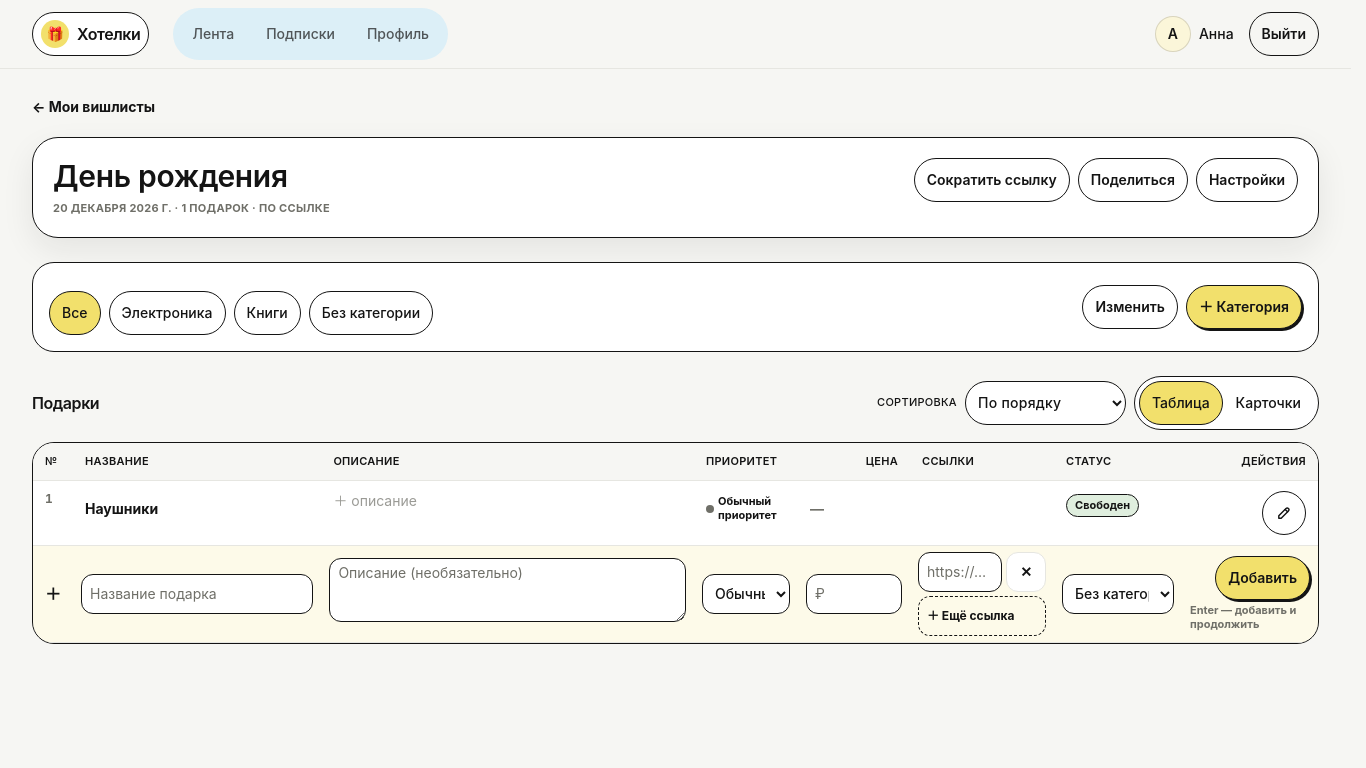
категории: назначение в модалке › назначает категорию и отправляет полный массив categoryIds при сохранении
The image size is (1366, 768).
Expected: the text "Наушники" is shown, [85, 499, 158, 519]
Click the button named "Редактировать подарок". click: click(1284, 513)
box: [1262, 491, 1306, 535]
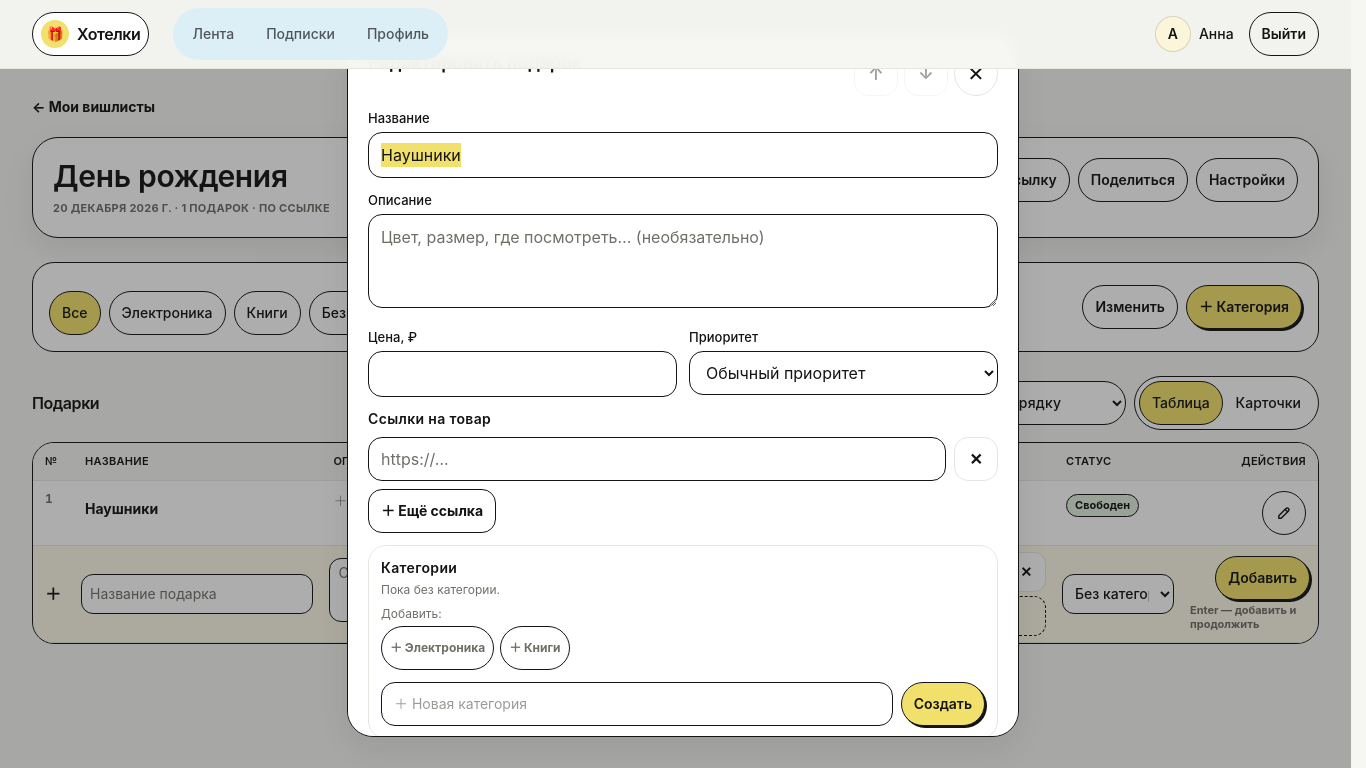
Click the button with aria-label "Добавить категорию «Электроника»". click: click(438, 648)
box: [381, 626, 494, 670]
(page scrolled)
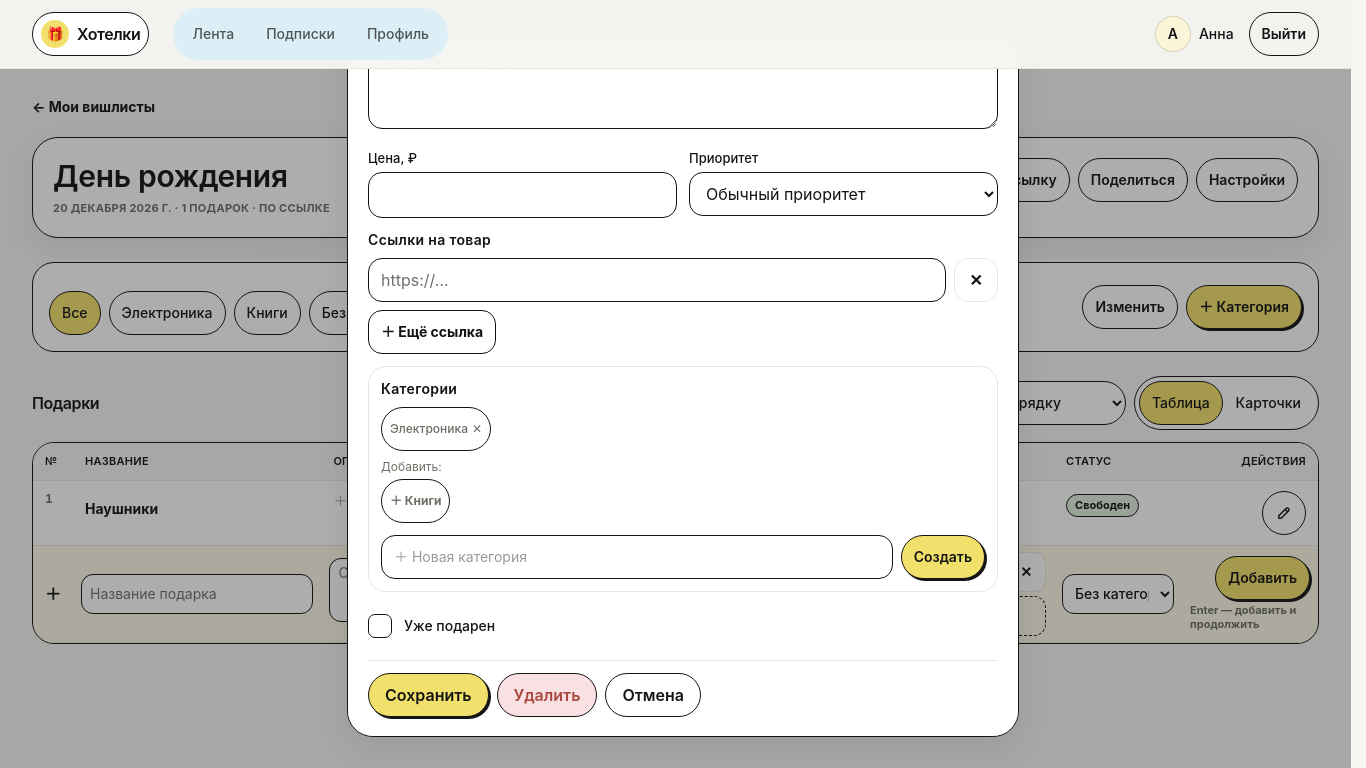
Expected: the button with aria-label "Снять категорию «Электроника»" is shown, [381, 407, 491, 451]
Click the button "Сохранить". click: click(428, 695)
box: [368, 673, 488, 717]
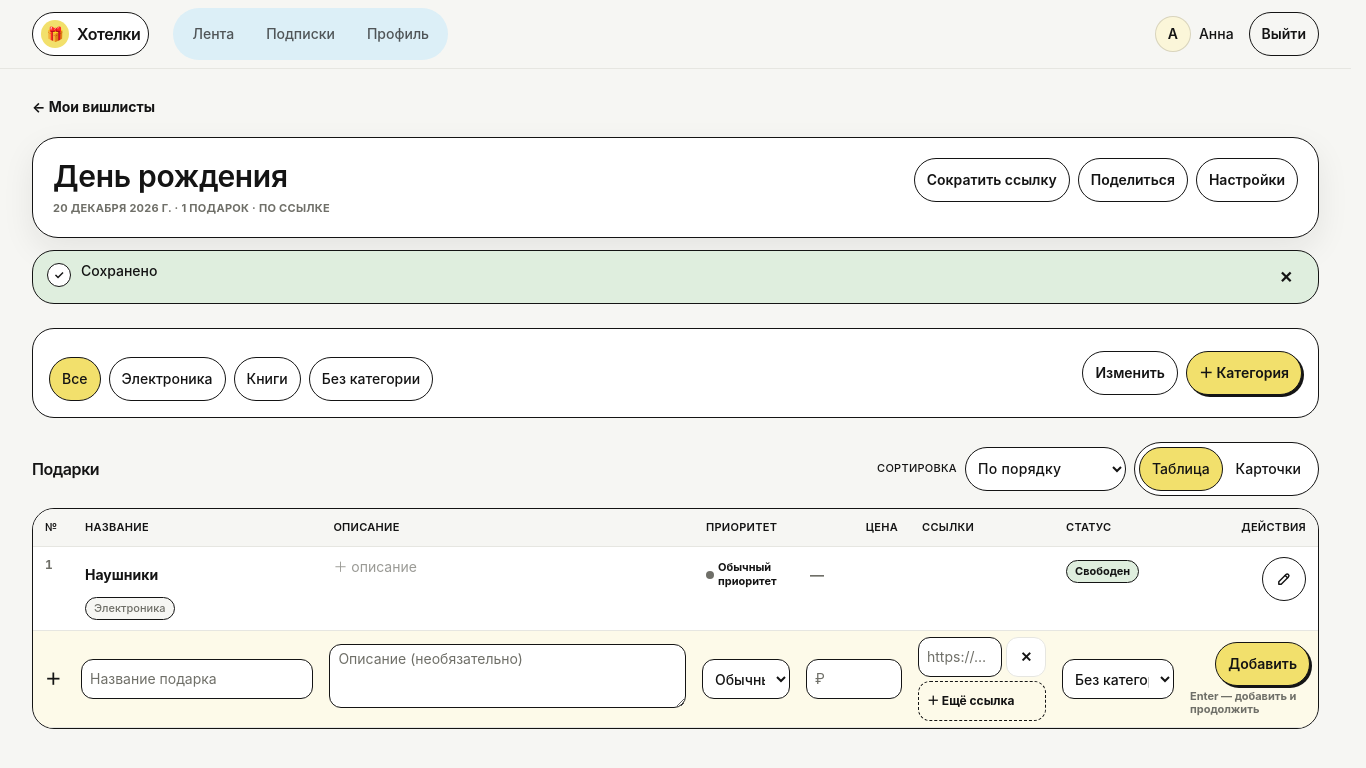
Expected: the text "Сохранено" is shown, [81, 262, 157, 278]
